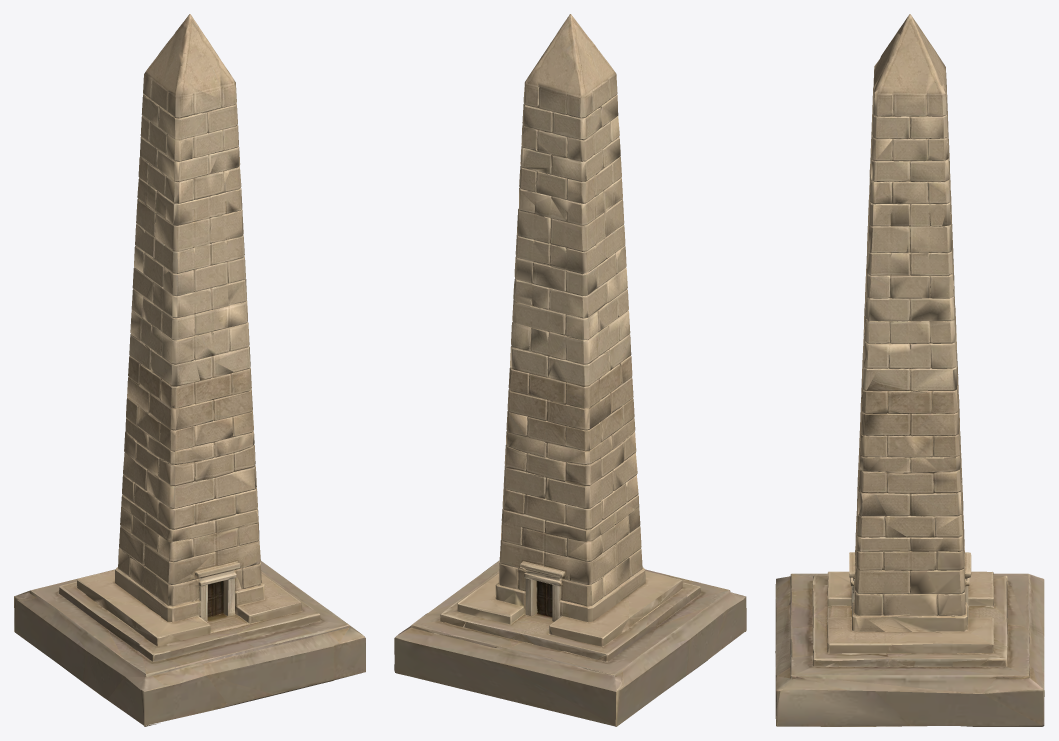
File: upm_mv3ppshv65g.glb
3 views of the same model, side by side, from view 1: azimuth 30°, elevation 25°; view 2: azimuth 150°, elevation 25°; view 3: azimuth 270°, elevation 25° (orthographic). The views are drawn at different scales.
Bounding box in the file's own units: 0.6955 × 1.9 × 0.7051.
Materials: 1 (1 with a texture image).
